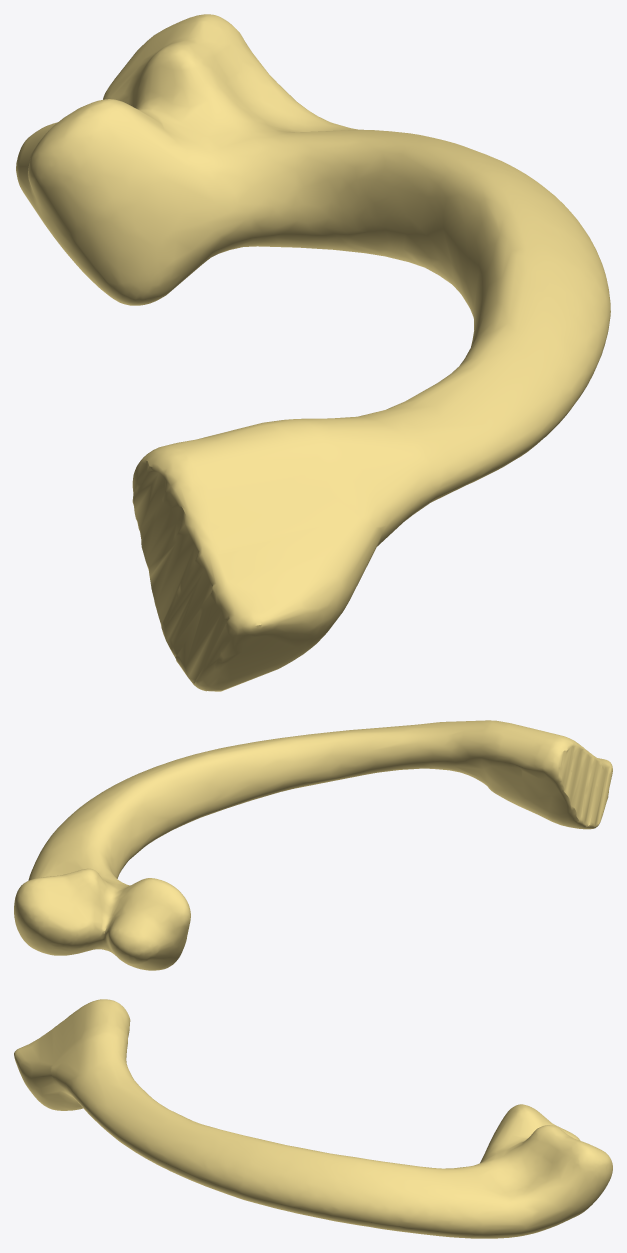
Rendered from fma67936.glb.
3 renders of one model, top to bottom at view 1: azimuth 30°, elevation 25°; view 2: azimuth 150°, elevation 25°; view 3: azimuth 270°, elevation 25°, orthographic. The views are drawn at different scales.
Visible parts, largest first — view 1: FMA67936; view 2: FMA67936; view 3: FMA67936.
Boxes of the visible parts, <box> form: FMA67936: <box>16,14,610,691</box>; FMA67936: <box>14,720,612,970</box>; FMA67936: <box>14,999,612,1238</box>.
Size of the model in its own units: 0.0234 by 0.00759 by 0.0357.
